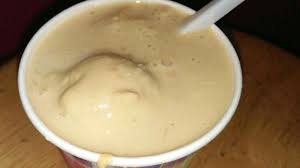jigirthanda: (41, 25, 200, 136)
